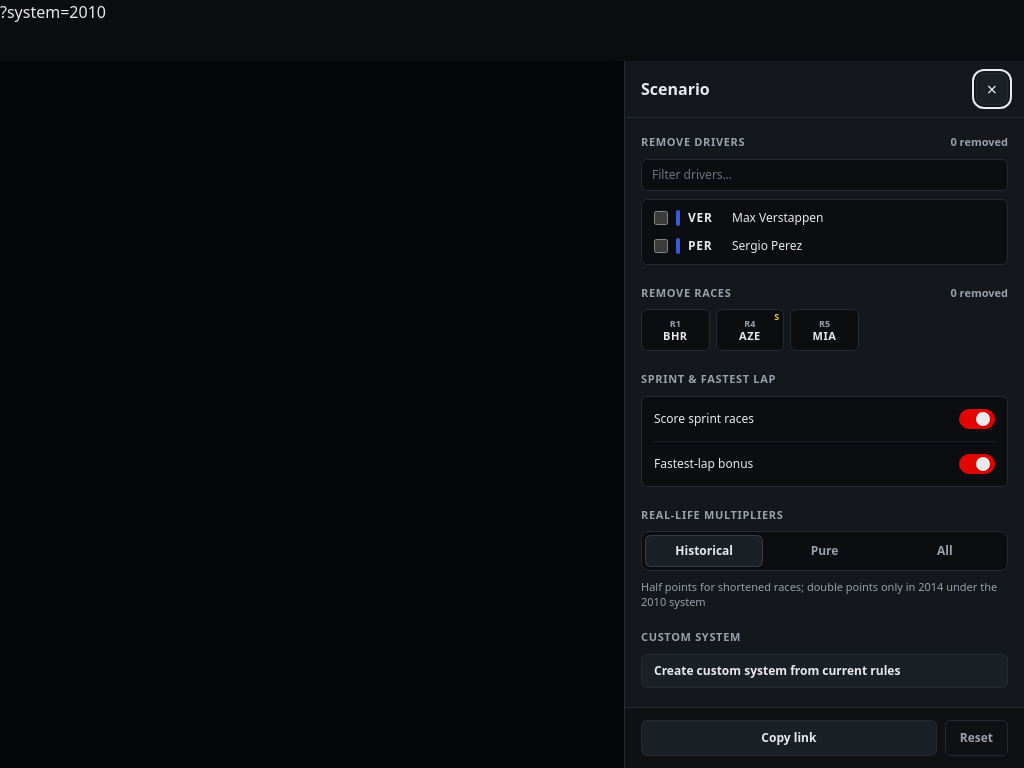
ScenarioPanel › writes skip= to the URL when toggling a race and prevents skipping all races
This screenshot has width=1024, height=768.
Click the button with aria-label "Round 5 MIA".
click(824, 330)  # box [790,309,859,351]
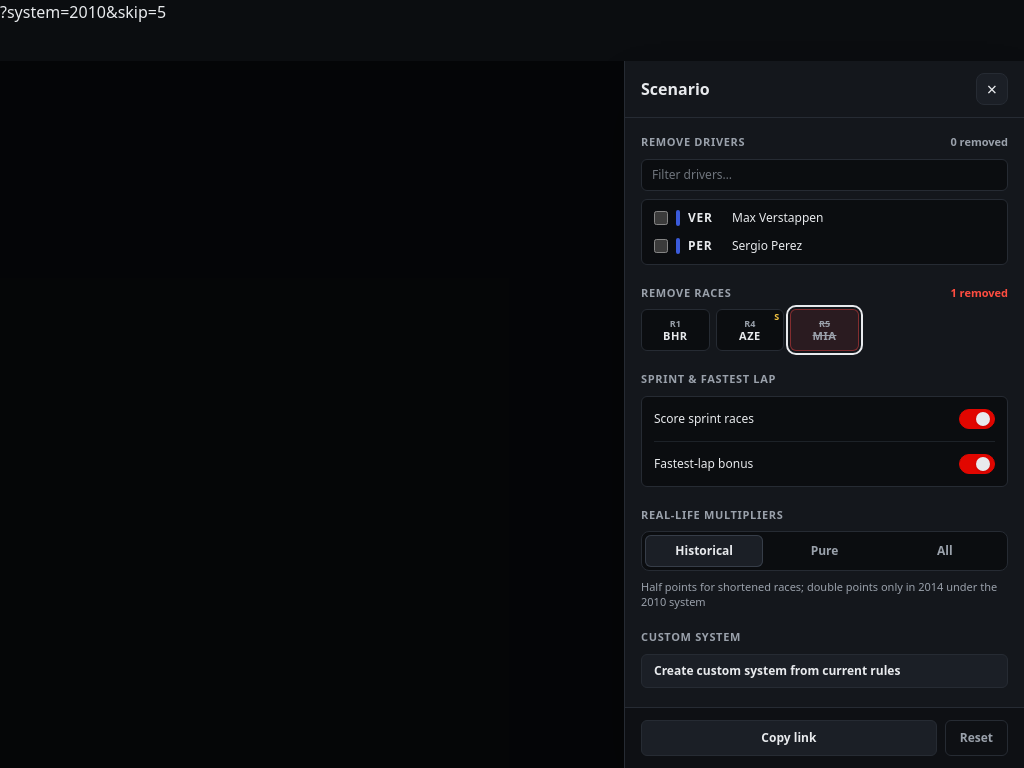
Result: the button with aria-label "Round 5 MIA" is pressed at [790,309,859,351]
Click the button with aria-label "Round 4 AZE".
click(750, 330)  # box [716,309,784,351]
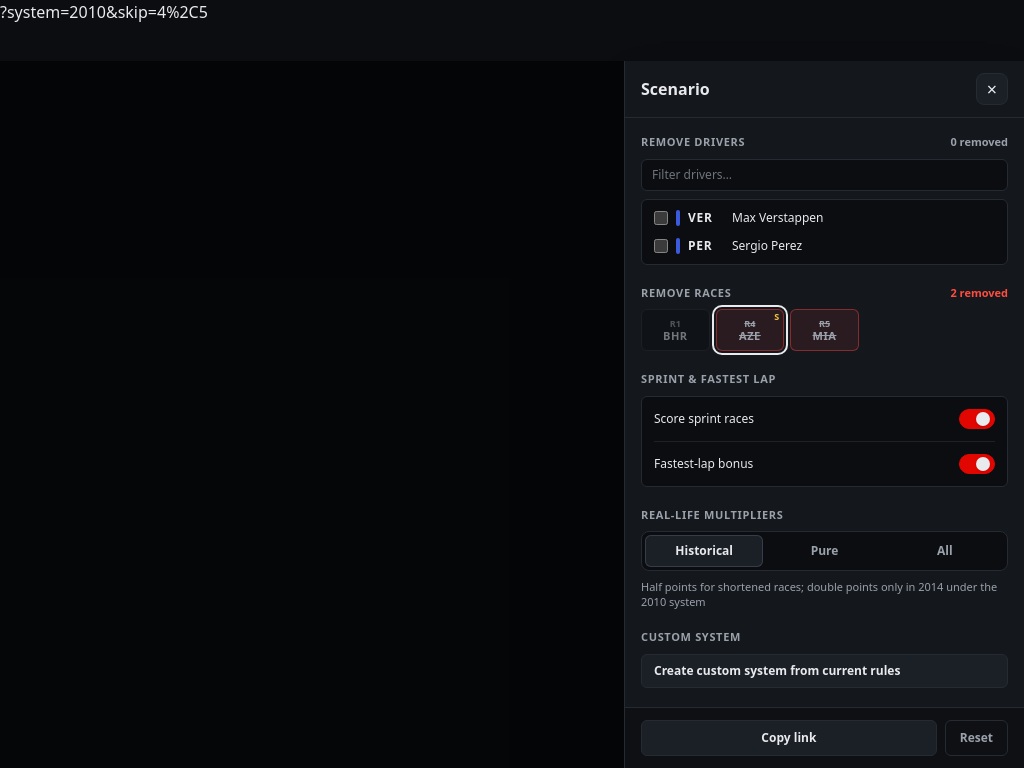
Result: the button with aria-label "Round 1 BHR" is disabled at [641,309,710,351]
